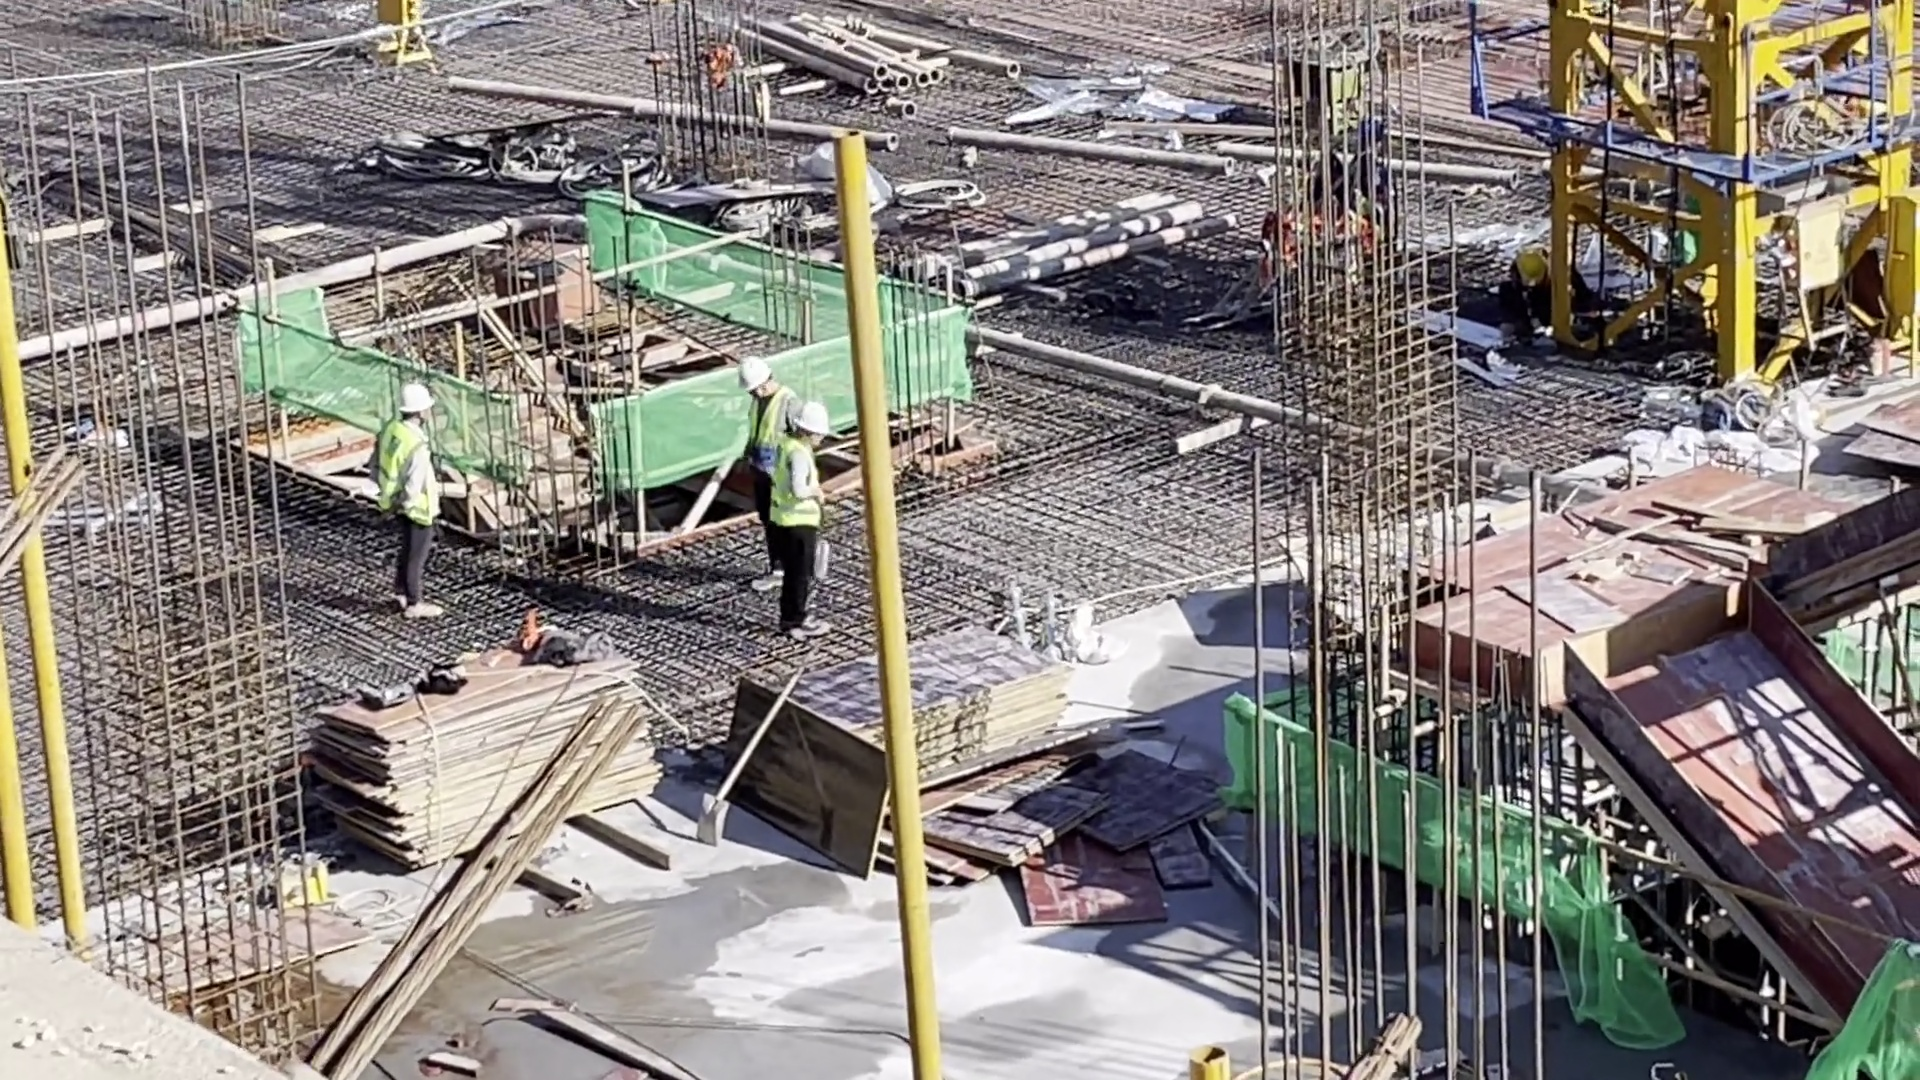helmet: (736, 357, 773, 390), (791, 406, 831, 435), (398, 386, 437, 416), (1521, 253, 1548, 287)
person: (380, 386, 454, 617), (782, 405, 834, 645), (1504, 249, 1591, 324), (733, 353, 788, 469)
vest: (380, 424, 437, 523), (778, 446, 825, 534), (752, 394, 791, 468)
